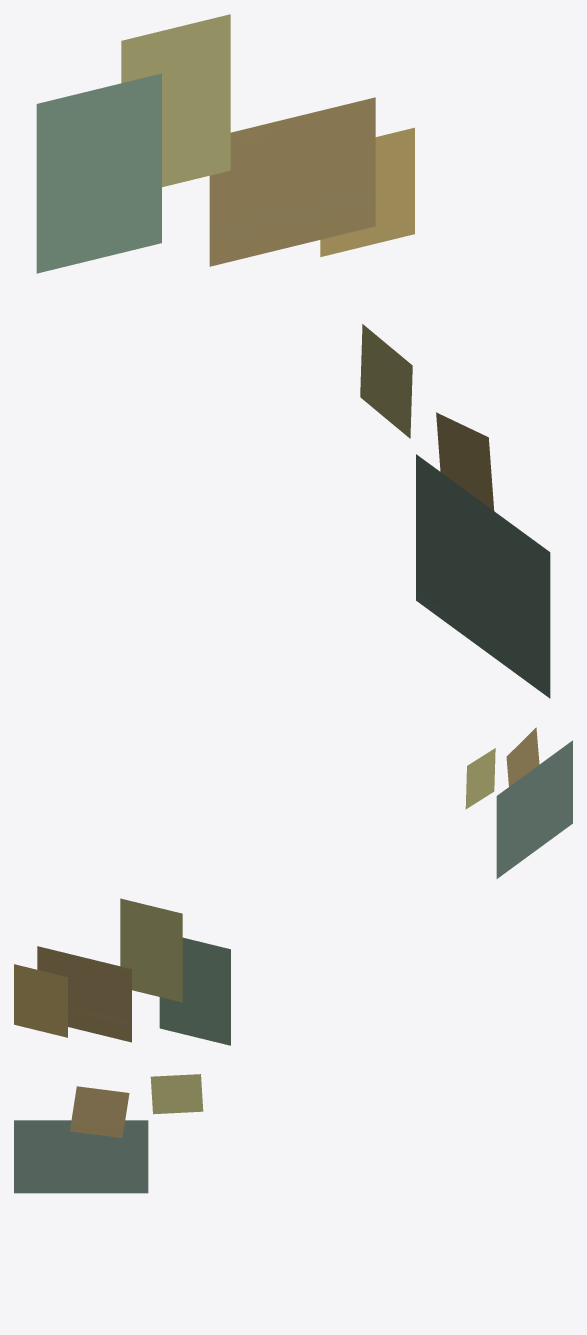
File: augur paper.fbx
3 renders of one model, top to bottom at view 1: azimuth 30°, elevation 25°; view 2: azimuth 150°, elevation 25°; view 3: azimuth 270°, elevation 25°, orthographic. The views are drawn at different scales.
Parts seen in each view (by area): view 1: augur paper; view 2: augur paper; view 3: augur paper.
Boxes of the visible parts, left/top/right/bottom form: augur paper: left=36, top=14, right=550, bottom=698; augur paper: left=14, top=727, right=572, bottom=1045; augur paper: left=14, top=1074, right=203, bottom=1193.
Bounding box in the file's own units: 347 × 224 × 791.
